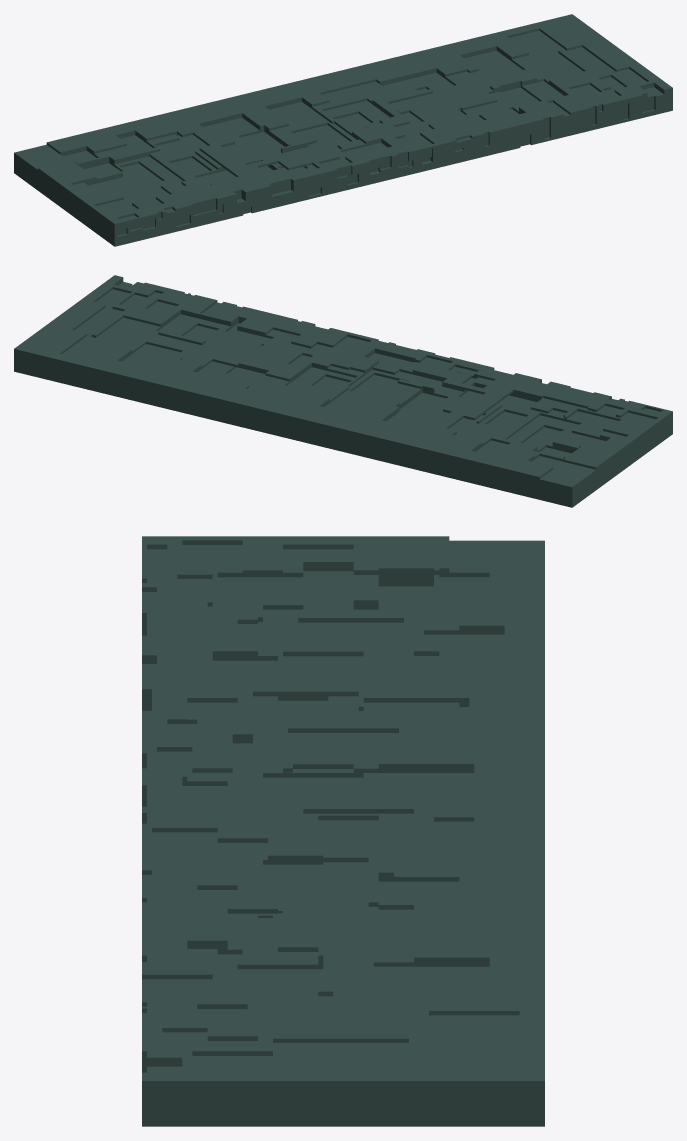
File: floor.obj
3 renders of one model, top to bottom at view 1: azimuth 30°, elevation 25°; view 2: azimuth 150°, elevation 25°; view 3: azimuth 270°, elevation 25°, orthographic. The views are drawn at different scales.
Bounding box in the file's own units: 25.6 × 1 × 8.
1 material, 1 textured.
